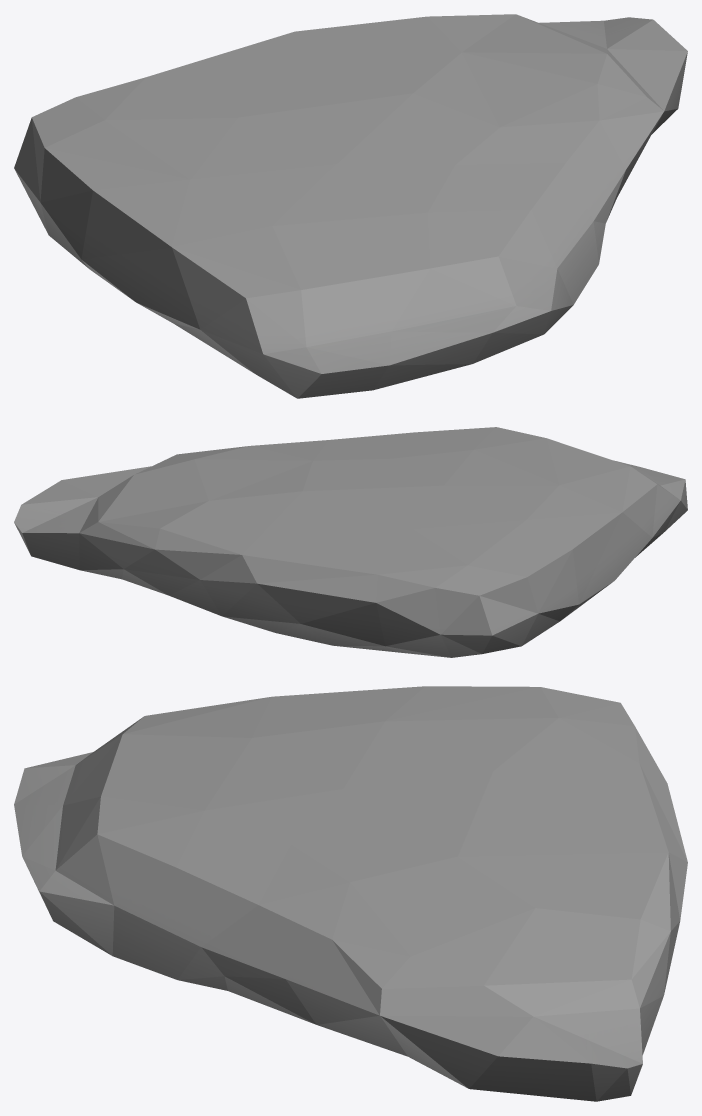
Rendered from Jungle_PlatformRock_Med_B.fbx.
3 renders of one model, top to bottom at view 1: azimuth 30°, elevation 25°; view 2: azimuth 150°, elevation 25°; view 3: azimuth 270°, elevation 25°, orthographic. The views are drawn at different scales.
Parts seen in each view (by area): view 1: Jungle_PlatformRock_Med_B; view 2: Jungle_PlatformRock_Med_B; view 3: Jungle_PlatformRock_Med_B.
Boxes of the visible parts, x1,y1,x2,y2 form: Jungle_PlatformRock_Med_B: (14, 14, 687, 398); Jungle_PlatformRock_Med_B: (14, 427, 687, 657); Jungle_PlatformRock_Med_B: (14, 686, 687, 1101).
Bounding box in the file's own units: 11 × 2.01 × 9.26.
Materials: 1 (1 with a texture image).
